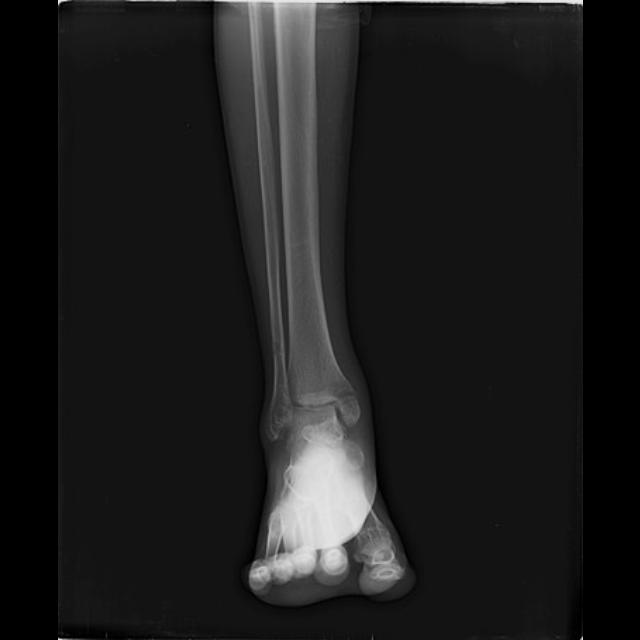Fracture: (267, 332, 286, 359)
